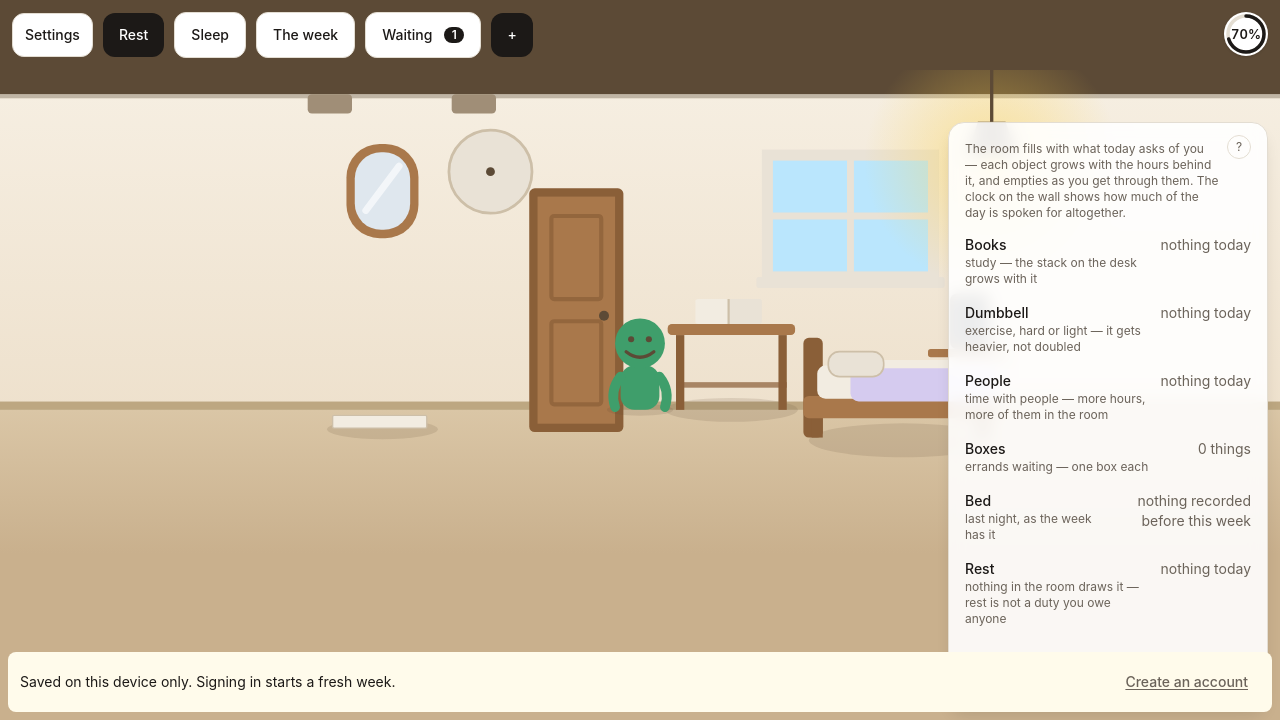
it: RoomShell showing reported energy over time › draws nothing for a student who has never answered
Click the button with test id "open-week" at {"x": 306, "y": 35}, box x1=256 y1=12 x2=355 y2=58
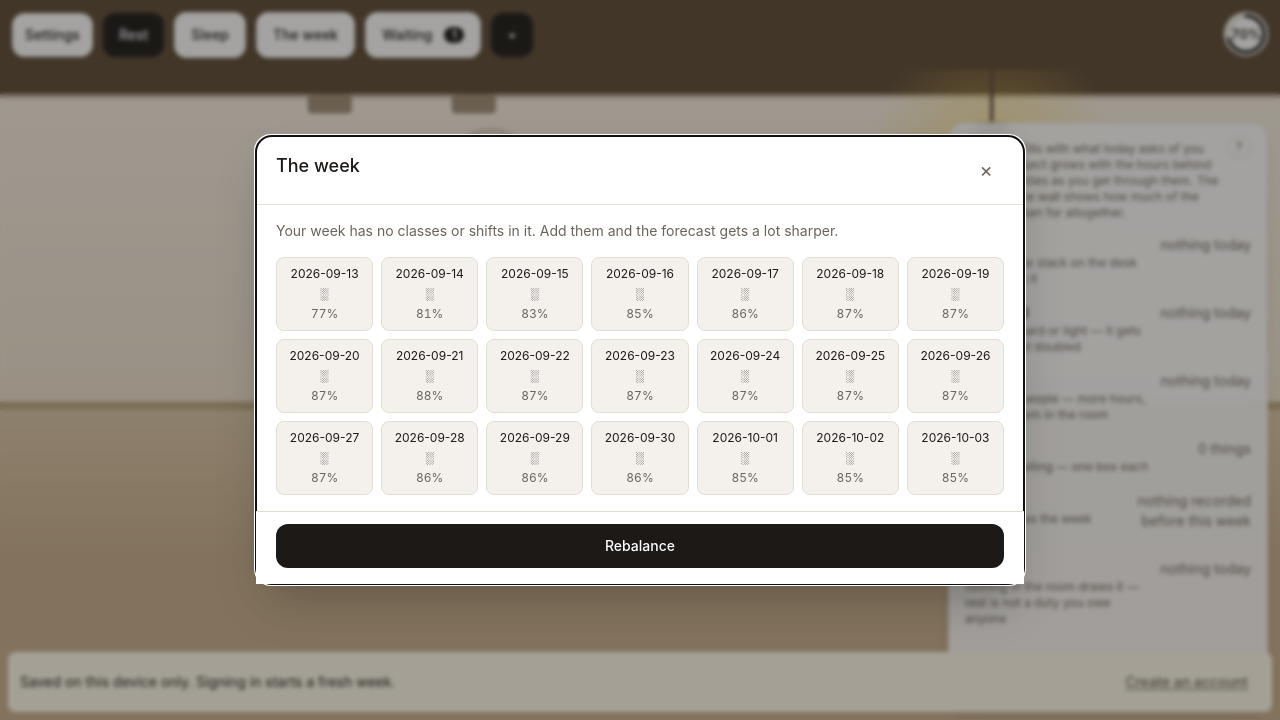
Now the button with test id "rebalance" is shown, box x1=276 y1=524 x2=1004 y2=568
